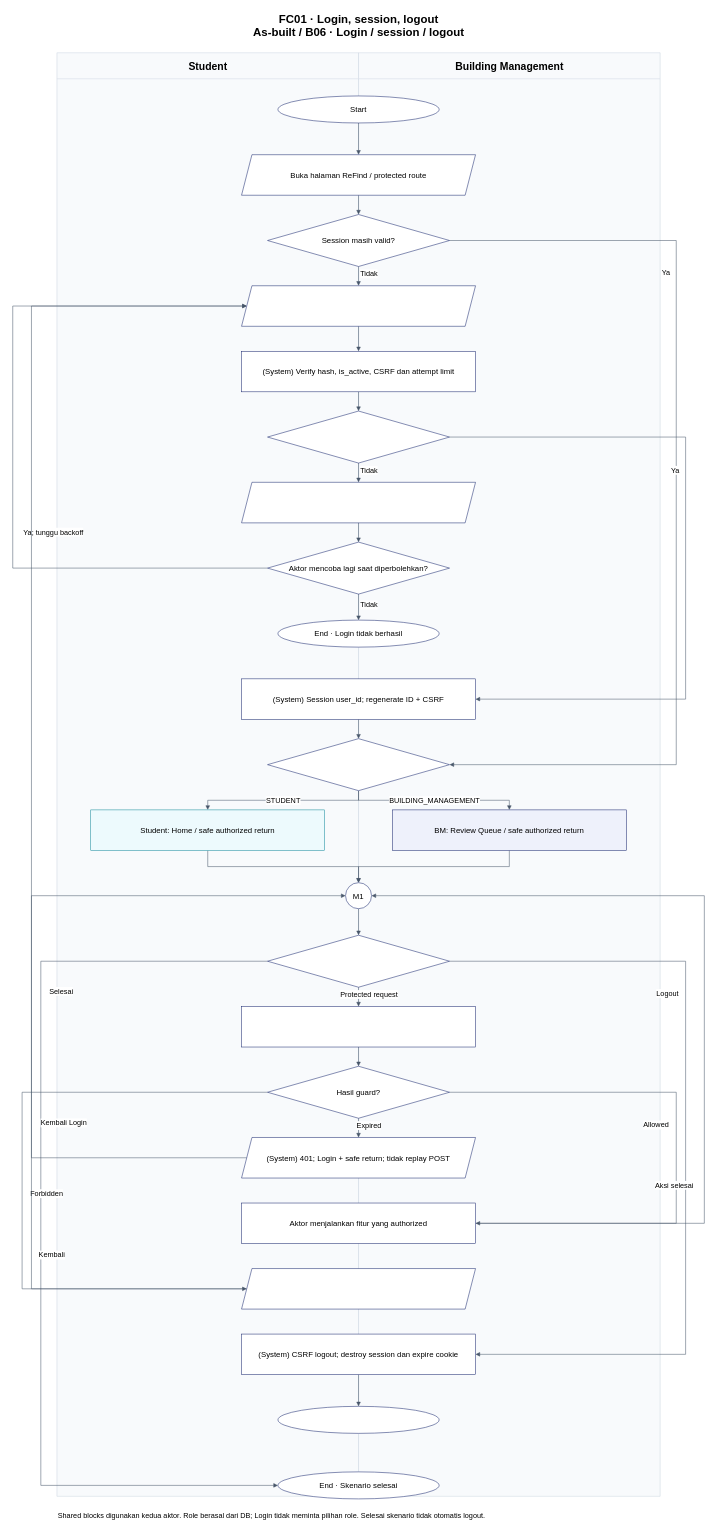
Image size: 718x1540. Some labels were removed from this diagram. The centre of each missing label's shape, as x and y in pixels:
(System) 403; tampilkan jalan kembali sesuai role: the point at 358,1288
(System) Error generik / 429 + Retry-After: the point at 358,502
(System) Per-request session, role dan ownership guard: the point at 358,1026
Aktivitas berikutnya?: the point at 358,961
Credential diterima?: the point at 358,437
End · Logged out: the point at 358,1419
Role dari akun DB?: the point at 358,764
Student/BM: email + password pada Login: the point at 358,305
